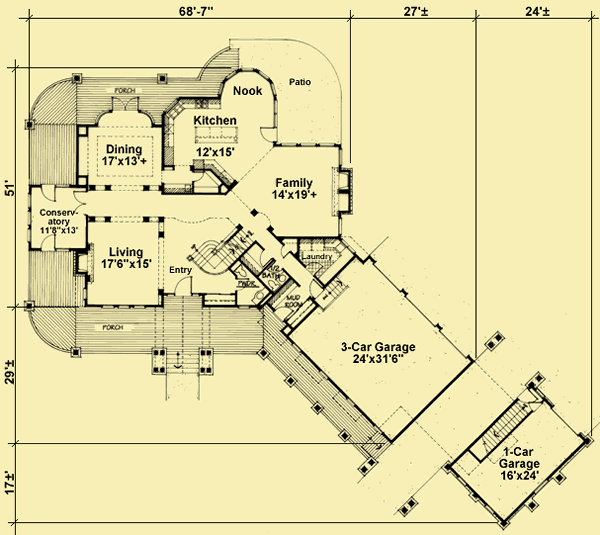door: (39, 231, 62, 252), (39, 183, 59, 204), (306, 275, 325, 297), (173, 276, 193, 296), (257, 123, 277, 143), (73, 185, 89, 205), (258, 248, 273, 265), (277, 244, 292, 257)
kitchen bar: (192, 121, 240, 147)
stairs: (465, 400, 531, 459), (188, 222, 254, 271), (318, 276, 350, 310)
windows: (277, 137, 340, 150)
